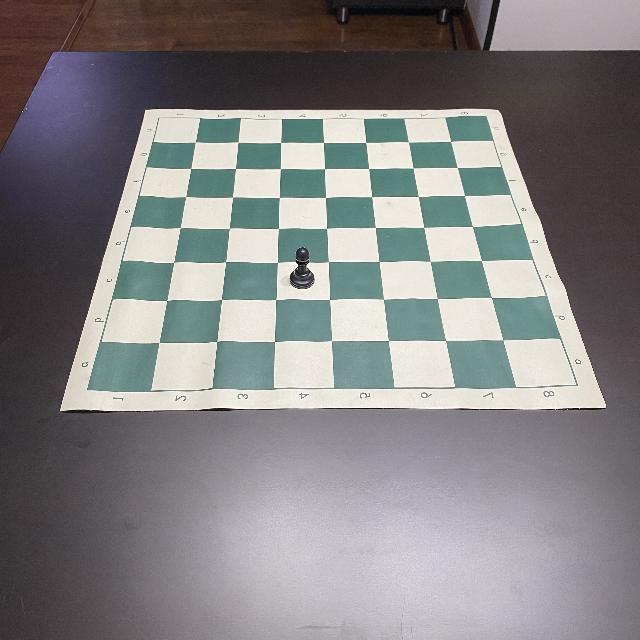black-pawn: (289, 247, 315, 290)
board: (59, 107, 606, 413)
